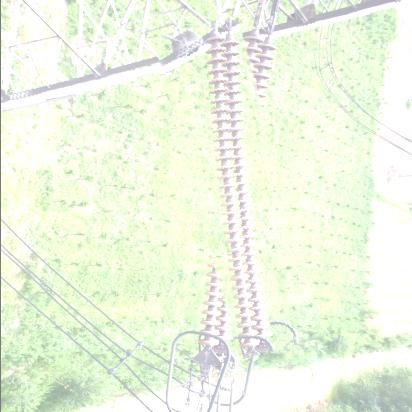insulator: (174, 19, 303, 359)
